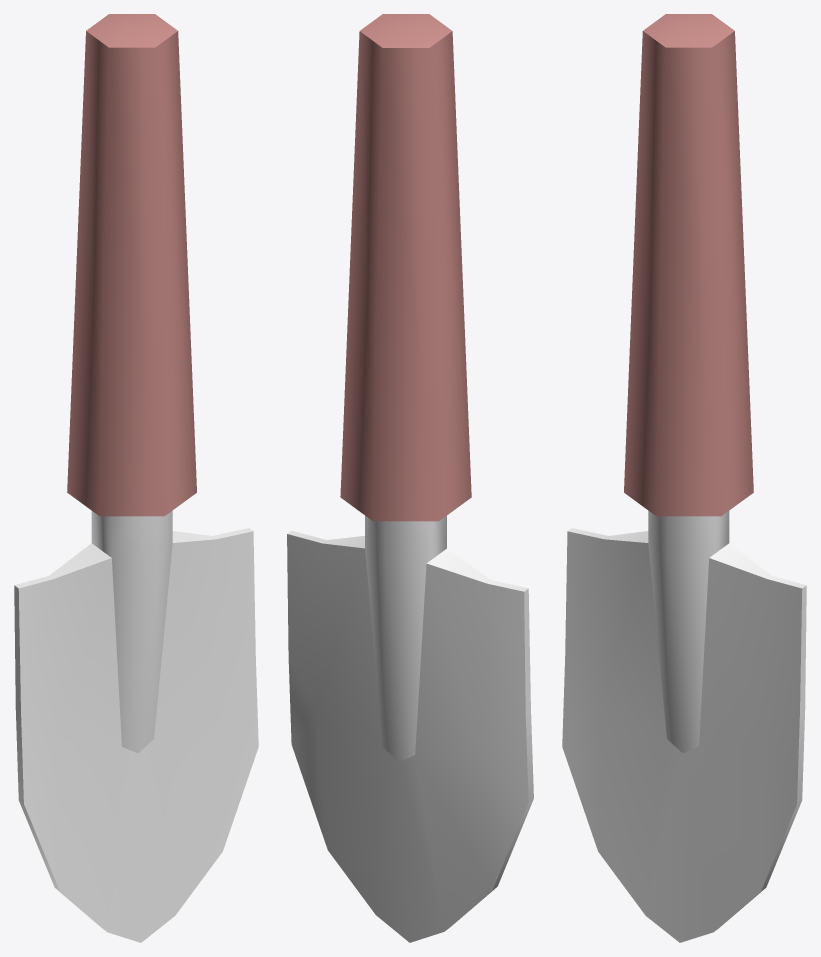
The model's file is Trowel.fbx.
3 views of the same model, side by side, from view 1: azimuth 30°, elevation 25°; view 2: azimuth 150°, elevation 25°; view 3: azimuth 330°, elevation 25° (orthographic).
Parts seen in each view (by area): view 1: Trowel; view 2: Trowel; view 3: Trowel.
Boxes of the visible parts, bbox=[...] form: Trowel: bbox=[14, 14, 258, 942]; Trowel: bbox=[287, 14, 533, 942]; Trowel: bbox=[562, 14, 806, 942].
Size of the model in its own units: 14.85 by 55.05 by 7.12.
